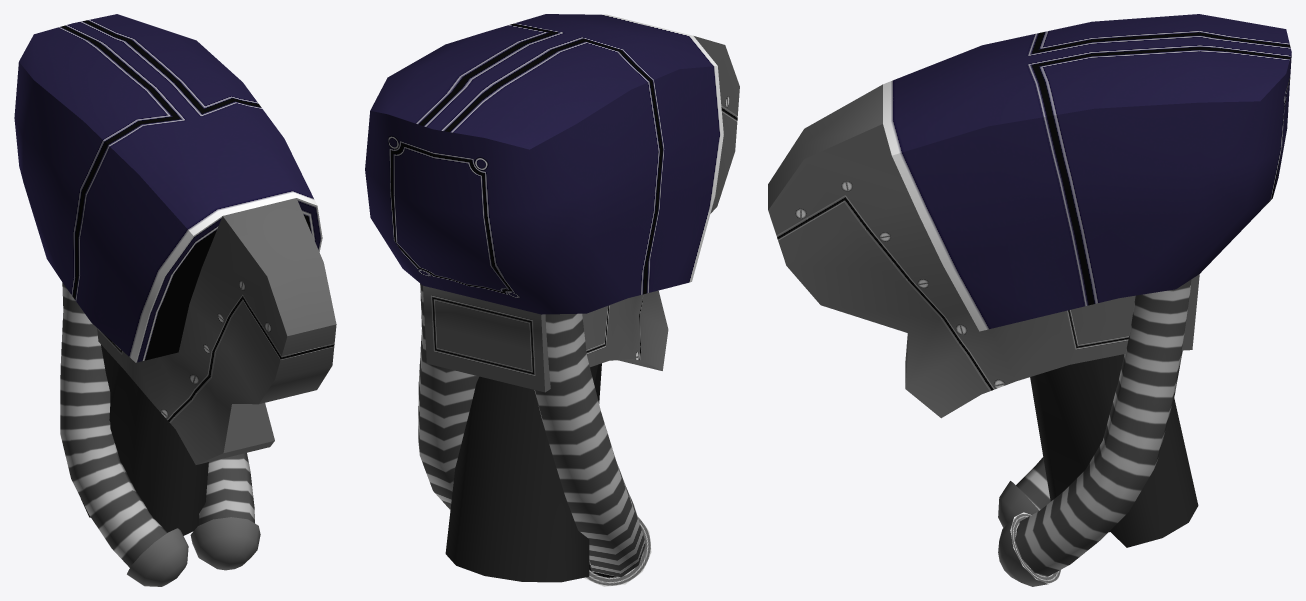
Rendered from head_a.fbx.
3 views of the same model, side by side, from view 1: azimuth 30°, elevation 25°; view 2: azimuth 150°, elevation 25°; view 3: azimuth 270°, elevation 25° (orthographic). The views are drawn at different scales.
Visible parts, largest first — view 1: HEAD_A; view 2: HEAD_A; view 3: HEAD_A.
Boxes of the visible parts, bbox=[...] form: HEAD_A: bbox=[14, 14, 336, 586]; HEAD_A: bbox=[365, 14, 739, 586]; HEAD_A: bbox=[768, 14, 1291, 586].
Bounding box in the file's own units: 12.76 × 30.38 × 27.57.
